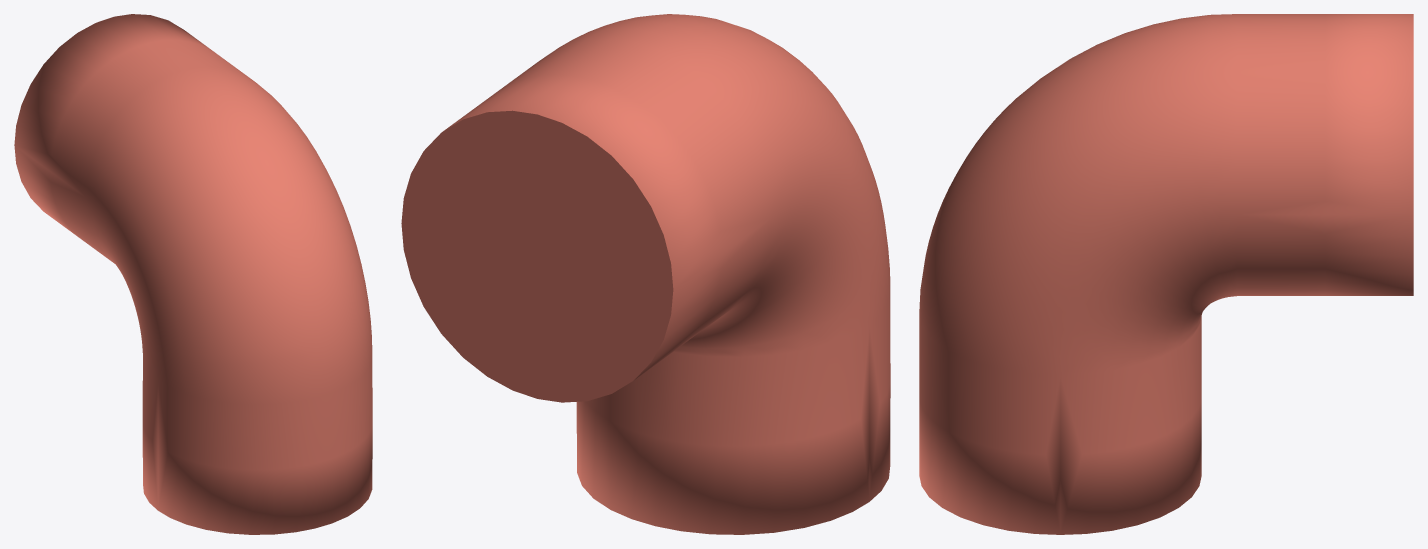
3 renders of one model, left to right at view 1: azimuth 30°, elevation 25°; view 2: azimuth 150°, elevation 25°; view 3: azimuth 270°, elevation 25°, orthographic. The views are drawn at different scales.
Visible parts, largest first — view 1: link3; view 2: link3; view 3: link3.
Part boxes in pixels (x1,y1,x2,y2): link3: (14, 14, 372, 534); link3: (401, 14, 890, 534); link3: (919, 14, 1413, 534).
Bounding box in the file's own units: 80 × 140 × 140.
